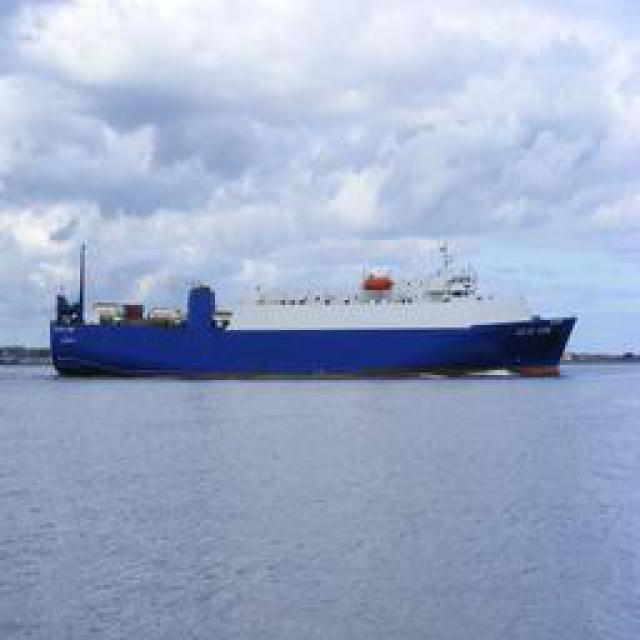Ship: (54, 259, 577, 382)
